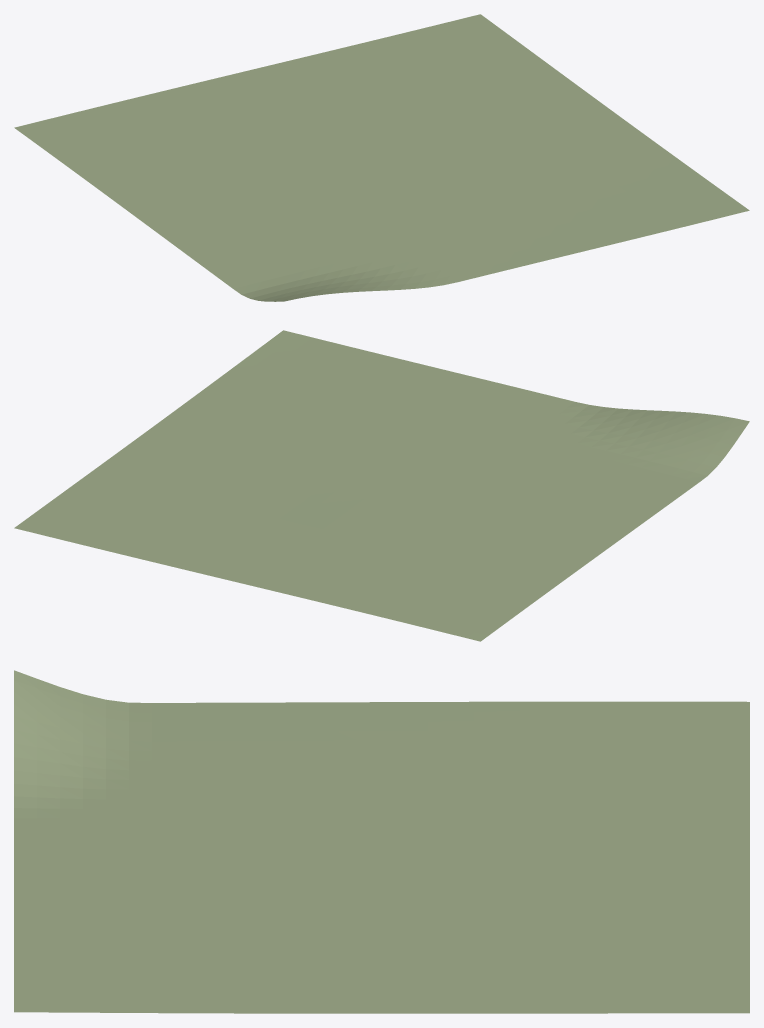
File: desert-14-11.glb
3 renders of one model, top to bottom at view 1: azimuth 30°, elevation 25°; view 2: azimuth 150°, elevation 25°; view 3: azimuth 270°, elevation 25°, orthographic. The views are drawn at different scales.
Parts seen in each view (by area): view 1: desert-14-11; view 2: desert-14-11; view 3: desert-14-11.
Part boxes in pixels (x1=…): desert-14-11: x1=14, y1=14, x2=749, y2=301; desert-14-11: x1=14, y1=330, x2=749, y2=641; desert-14-11: x1=14, y1=670, x2=749, y2=1013.
Size of the model in its own units: 512 by 25.14 by 512.
